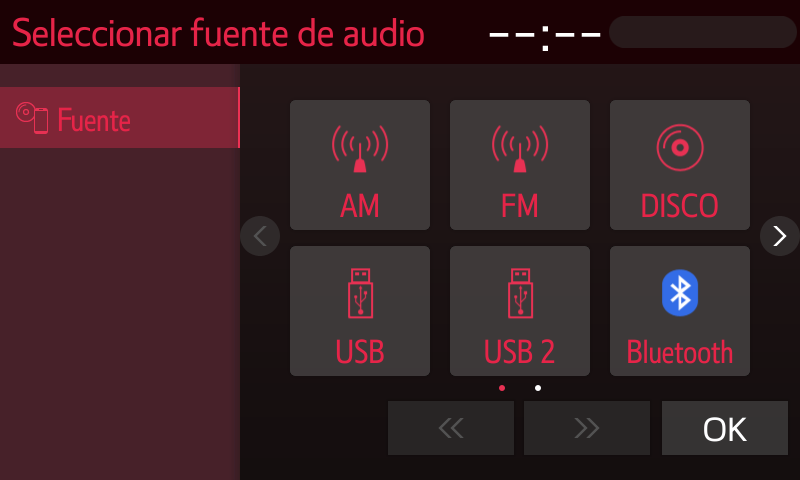touchPart: (442, 92, 595, 236), (604, 243, 758, 381), (607, 93, 755, 234), (284, 243, 434, 381), (286, 97, 430, 238), (450, 241, 592, 379), (661, 396, 792, 466), (759, 211, 796, 259)
untouchPart: (13, 9, 429, 51), (474, 4, 797, 54), (1, 81, 241, 148), (518, 397, 653, 460), (386, 401, 520, 459), (243, 211, 281, 267)
